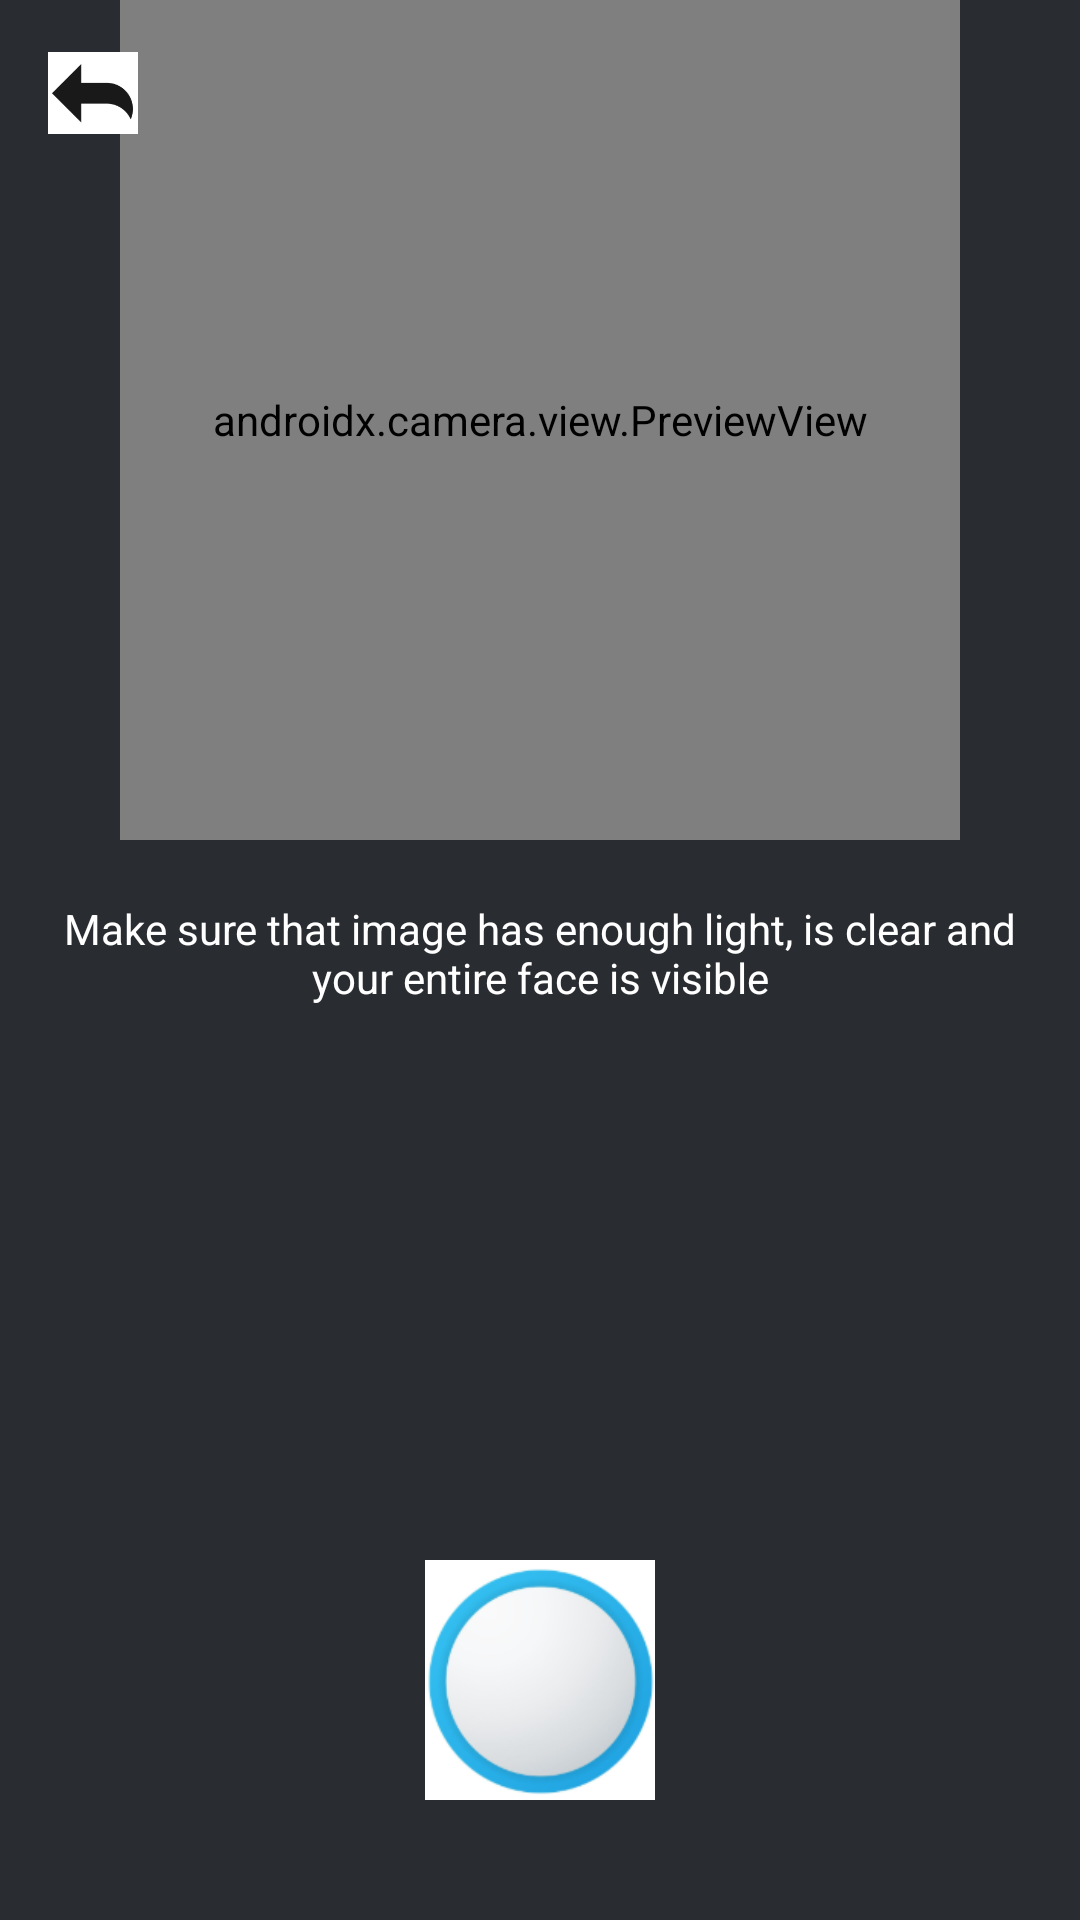

Locate icon controls on the screen. Image size 1080*1920, boxes as Rect(x1, y1, x2, y2).
back: Rect(48, 48, 138, 138)
shutter: Rect(425, 1560, 655, 1800)
